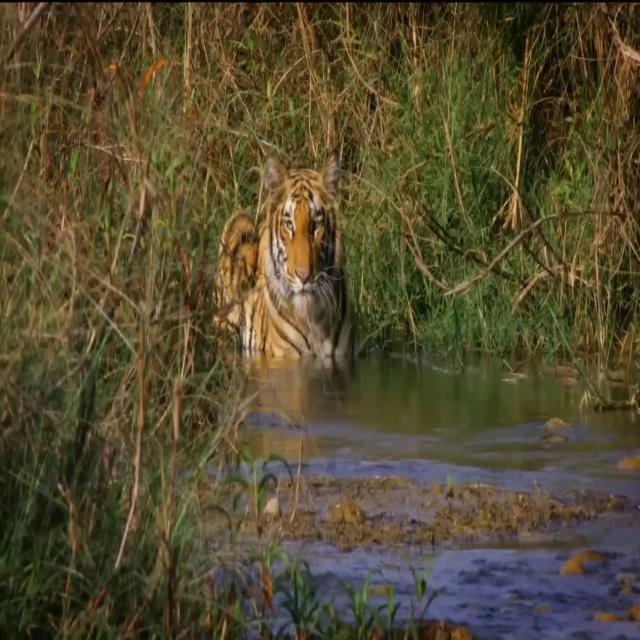tiger: (213, 147, 377, 358)
